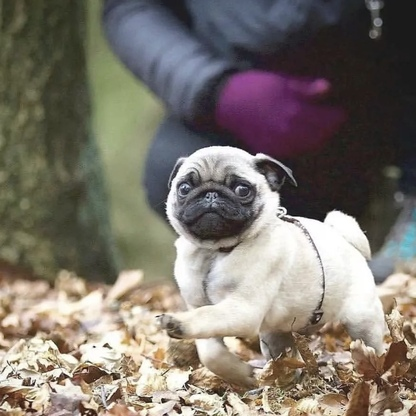Pug: (151, 134, 391, 393)
